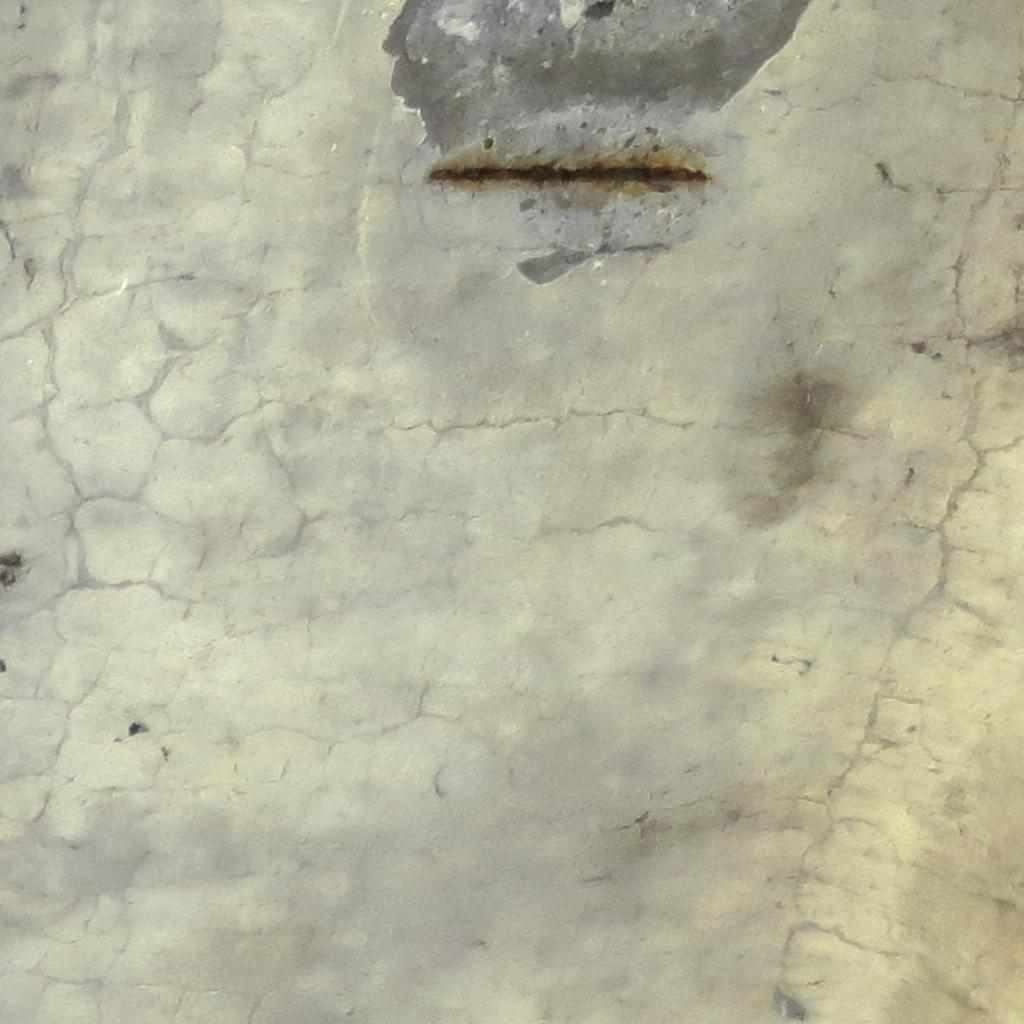exposed_rebar: (428, 162, 708, 185)
spalling: (384, 0, 809, 282)
